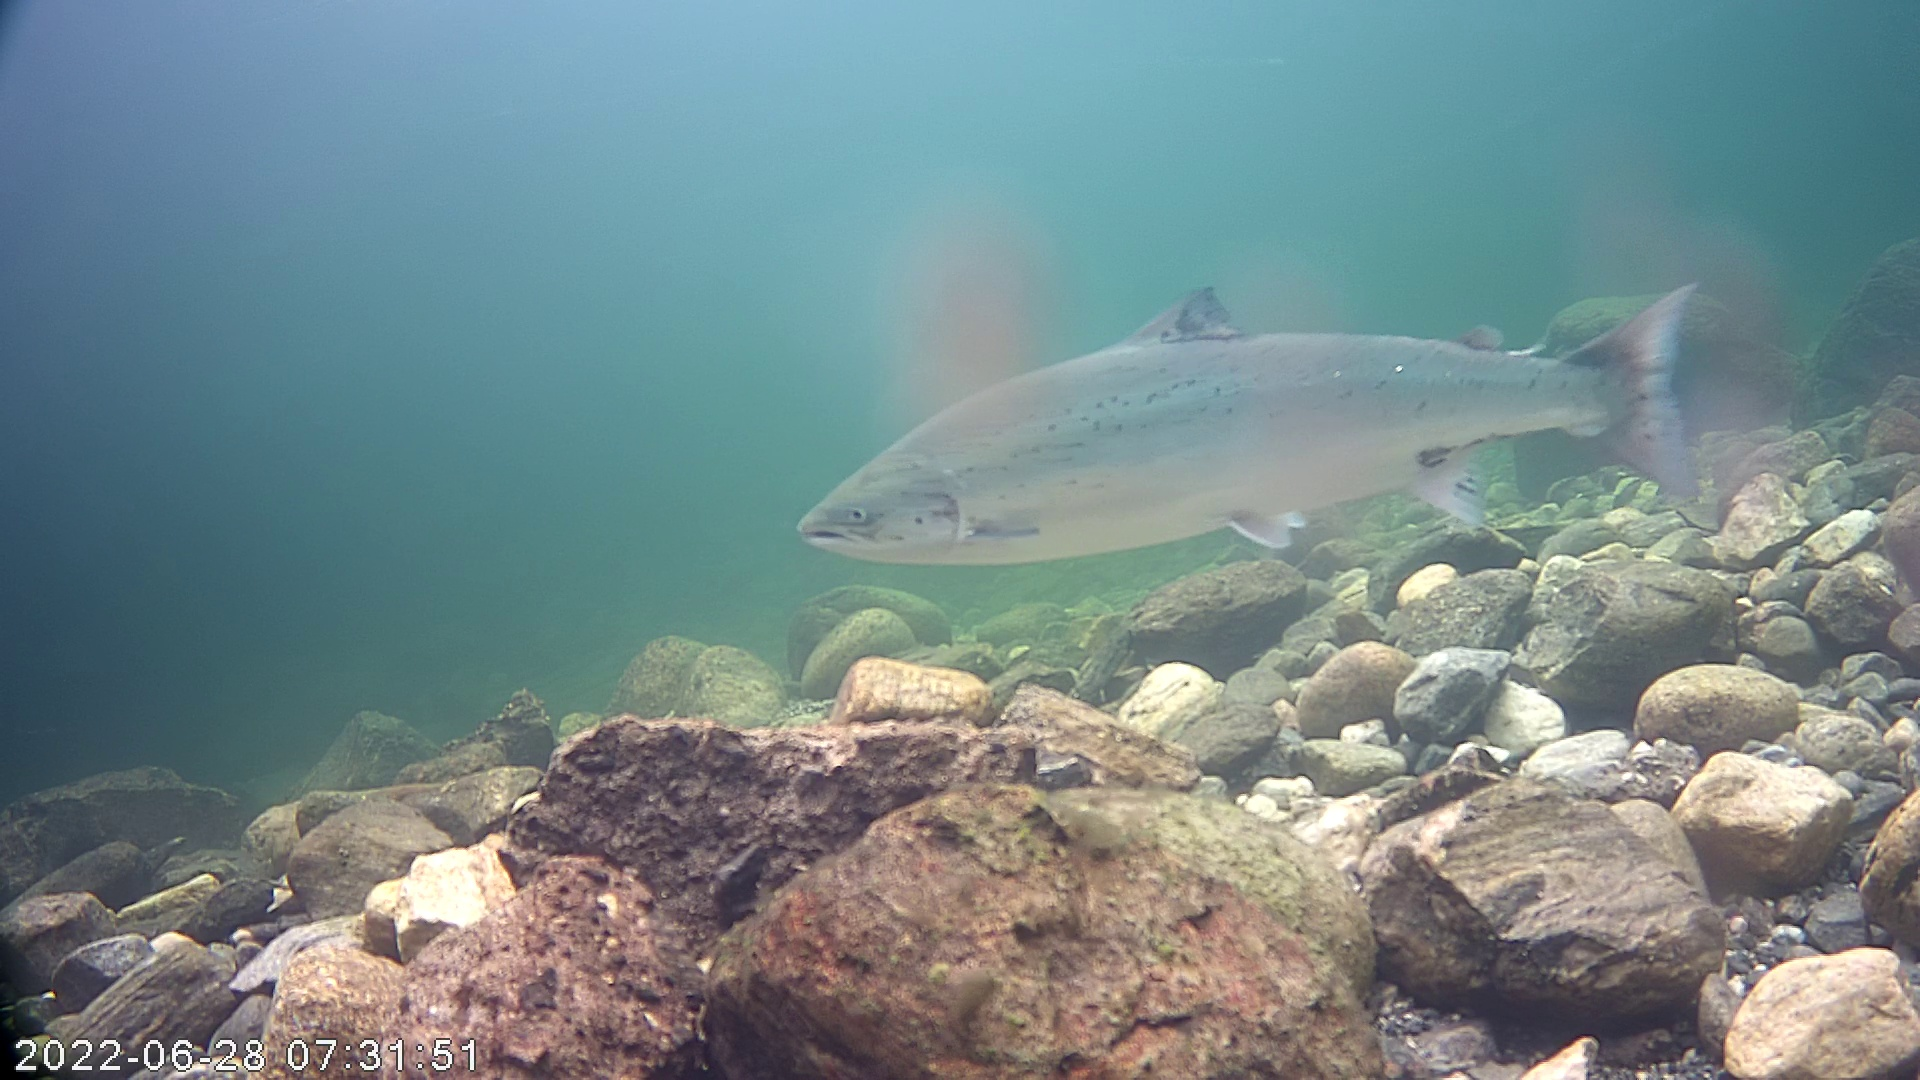salmon: (790, 212, 1724, 603)
